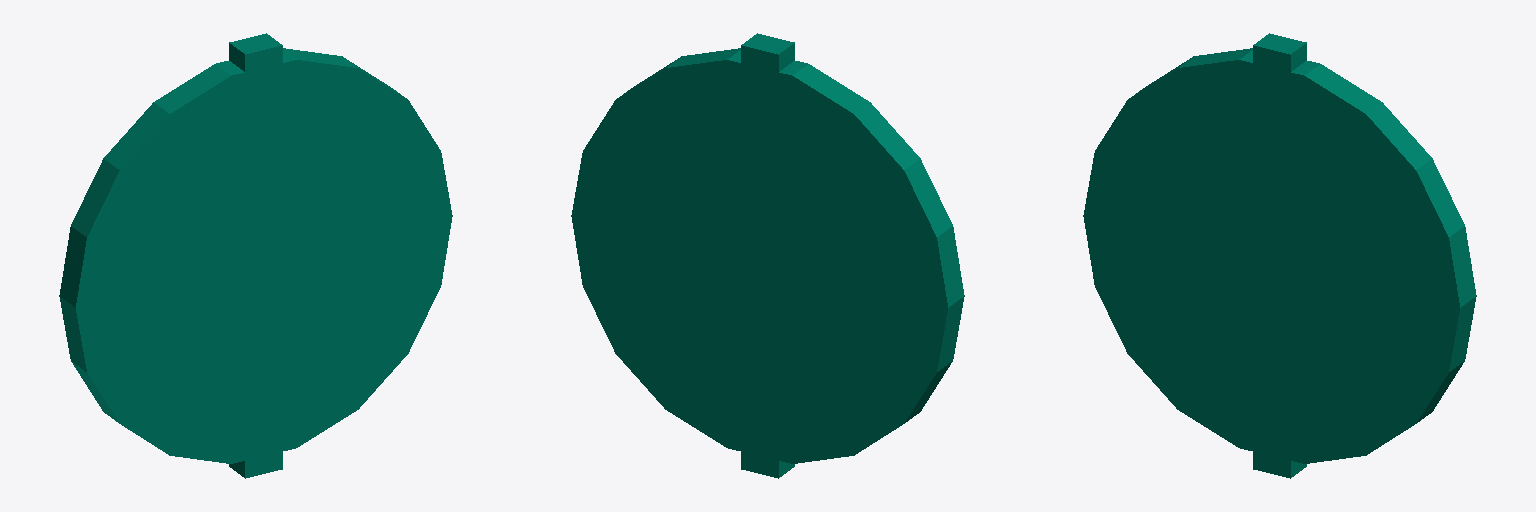
File: RioolDeksel.obj
The picture shows the model from 3 angles: view 1: azimuth 30°, elevation 25°; view 2: azimuth 150°, elevation 25°; view 3: azimuth 330°, elevation 25°; orthographic projection.
Parts seen in each view (by area): view 1: Box001; view 2: Box001; view 3: Box001.
Part boxes in pixels (x1,y1,x2,y2): Box001: (59,33,452,478); Box001: (571,33,964,478); Box001: (1083,33,1476,478).
Bounding box in the file's own units: 78.74 × 84.65 × 5.91.